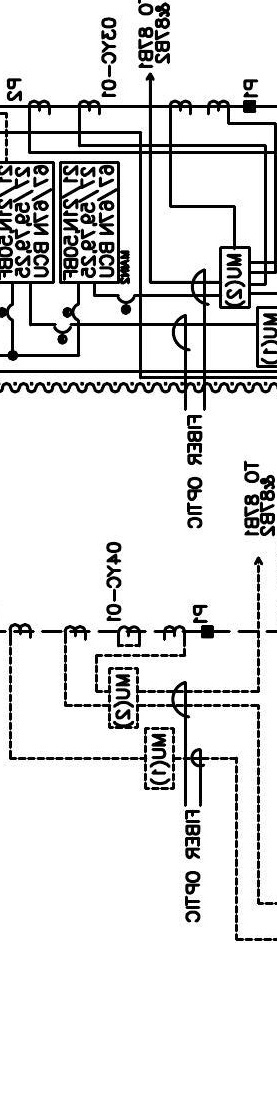MU: (219, 246, 251, 309)
